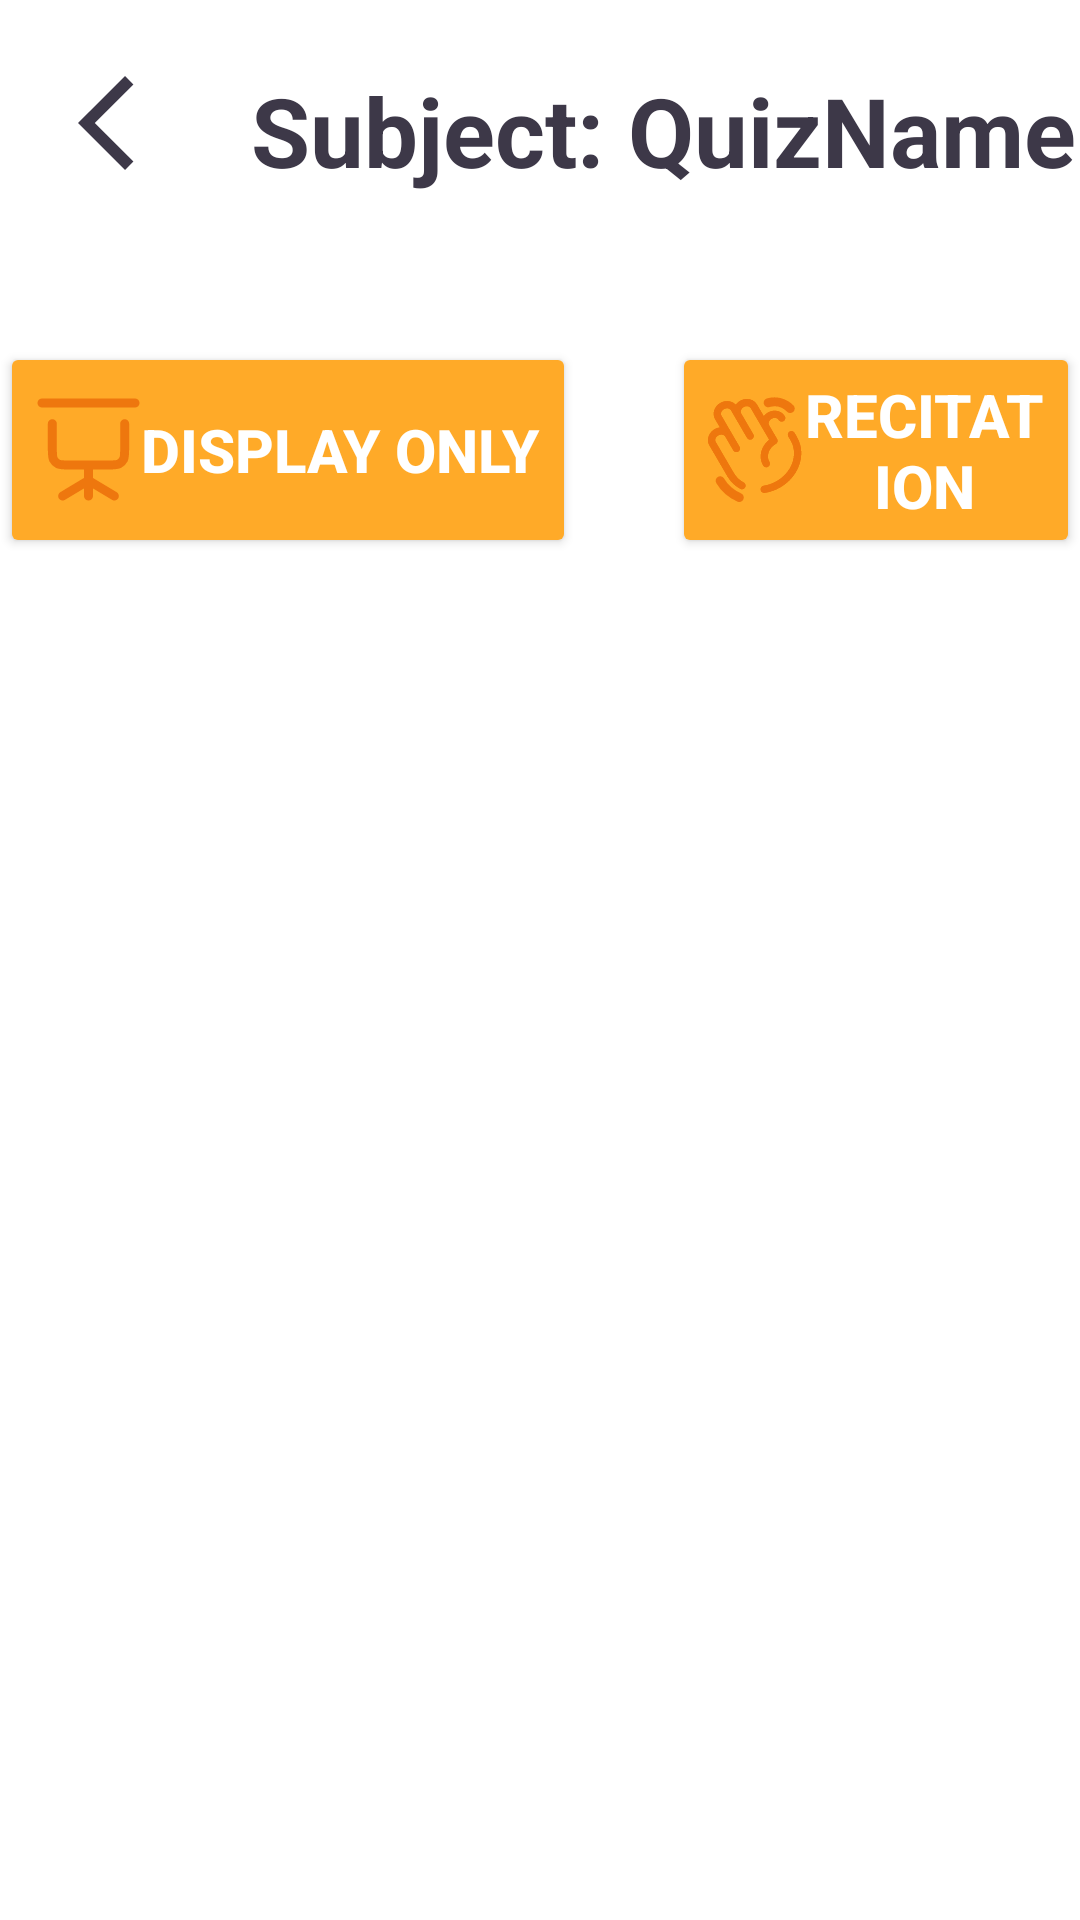

Screen size 1080x1920. Icon name, then its box in pixels as Rect(x1, y1, x2, y2):
arrow back: Rect(78, 76, 134, 170)
